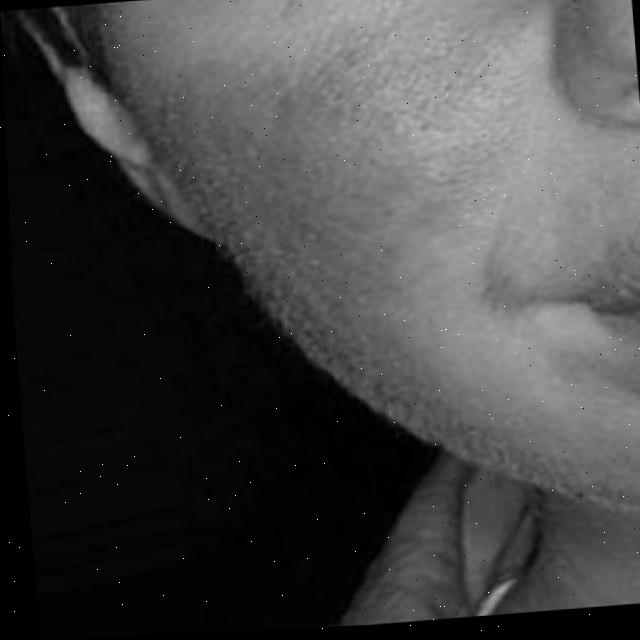Rosacea: (161, 4, 543, 336)
